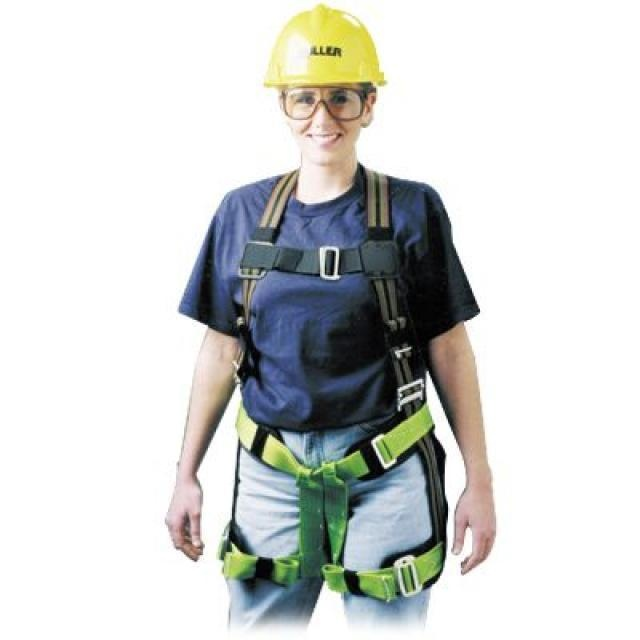Arnes_seguridad: (212, 153, 452, 603)
